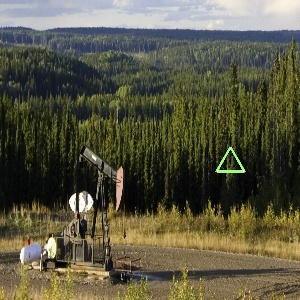triangle: (213, 145, 249, 174)
